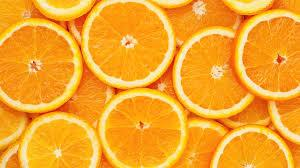orange: (172, 26, 262, 121), (75, 0, 169, 87), (94, 88, 195, 168), (0, 16, 84, 107), (242, 7, 300, 89), (24, 116, 112, 168), (200, 118, 290, 168)
